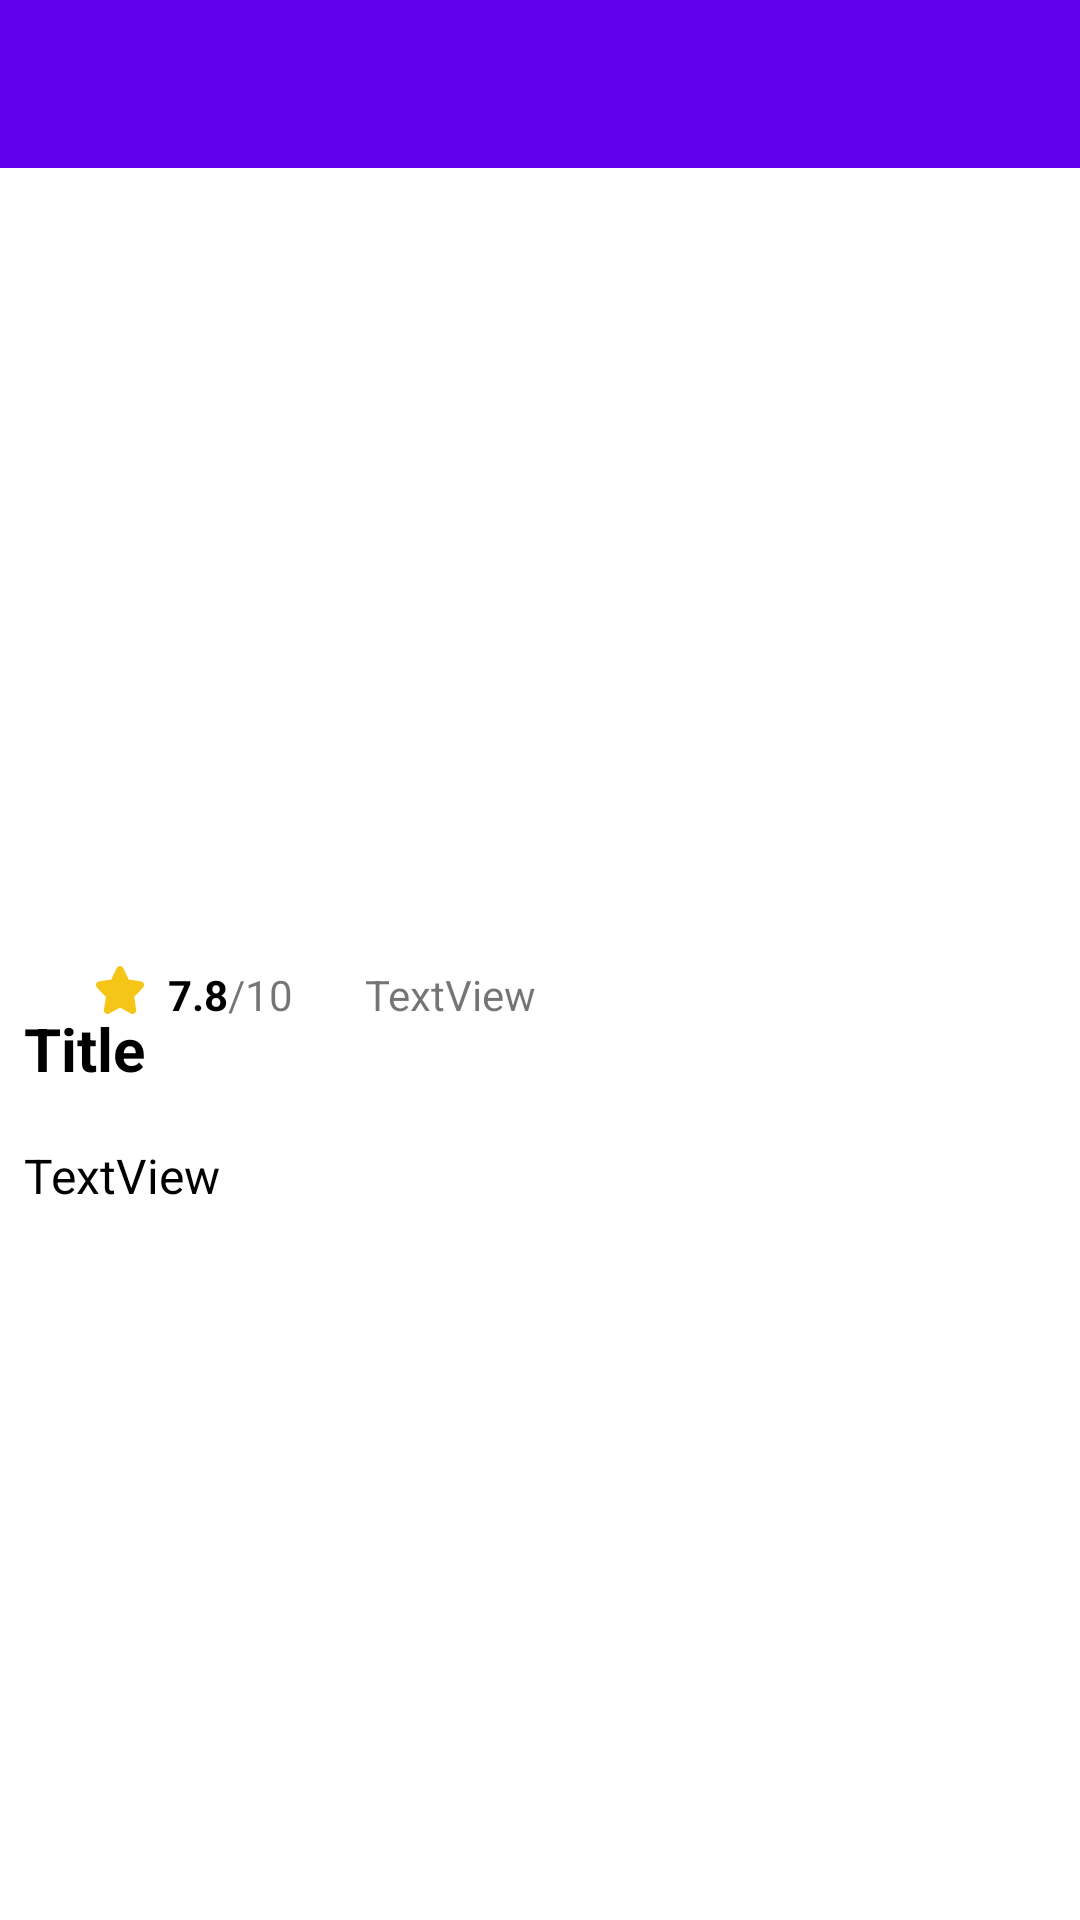

Icons on this 1080 × 1920 Android screen, each with the point to tap as (x=x, y=y):
rate: (x=120, y=990)
